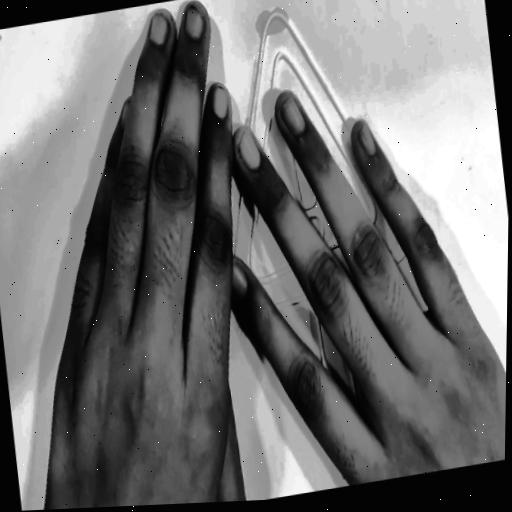signboard: (186, 0, 450, 501)
